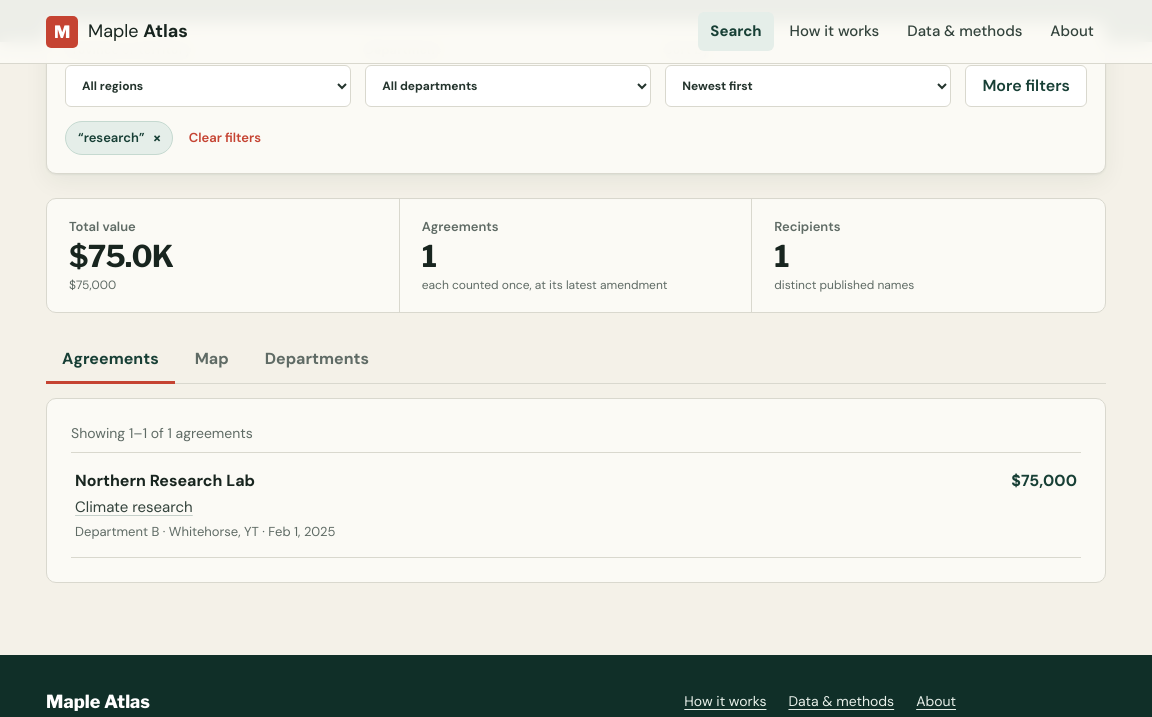
Scenario: App › filters records by search, province, and department
Earlier steps of the test are not shown.
Later steps or results of the test are not shown.
(page scrolled)
Expected: the text "Community Group" is not shown
Expected: the text "Northern Research Lab" is shown, [75,470,255,492]
Step 1. Click the tab "Map" → (212, 361), box [179,338,245,384]
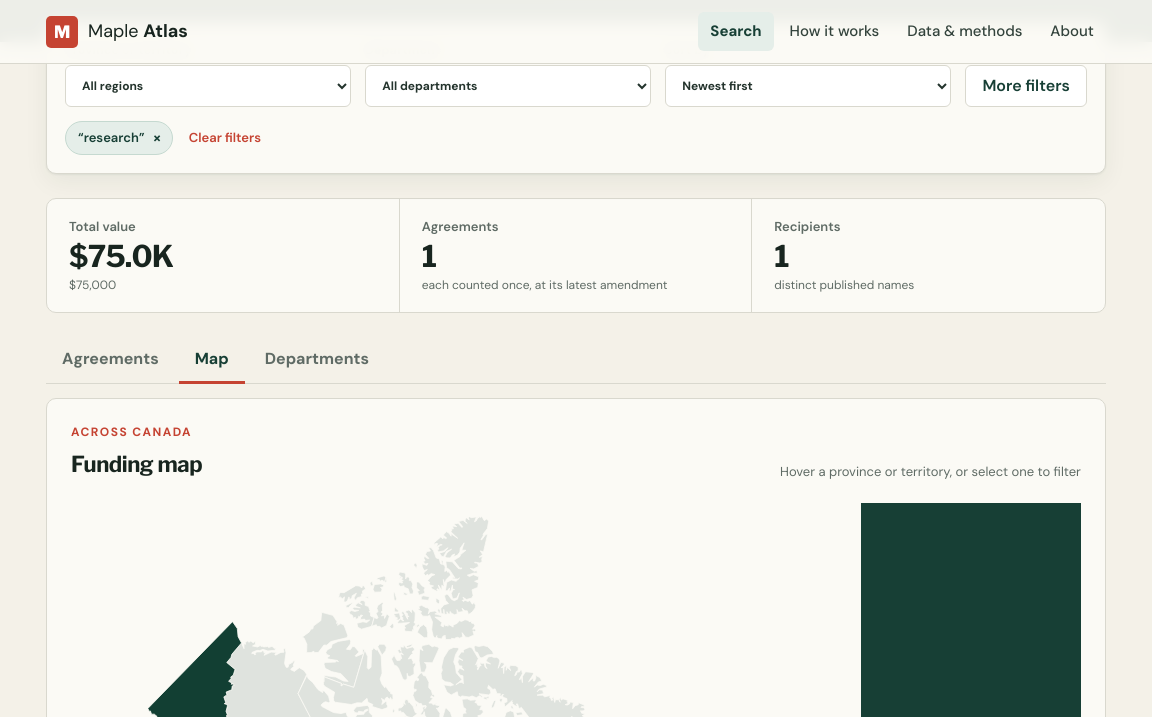
Step 2. Click the tab "Agreements" → (110, 361), box [46,338,175,384]
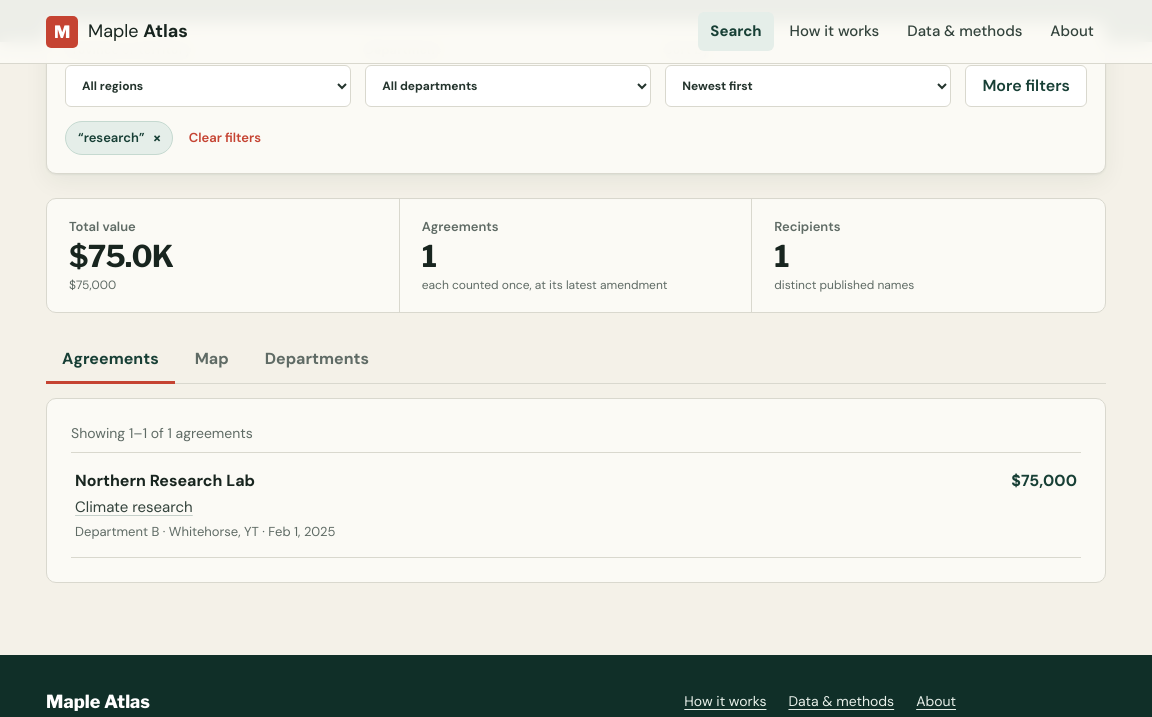
Step 3. Click the button "Clear filters" → (225, 138), box [181,122,269,154]
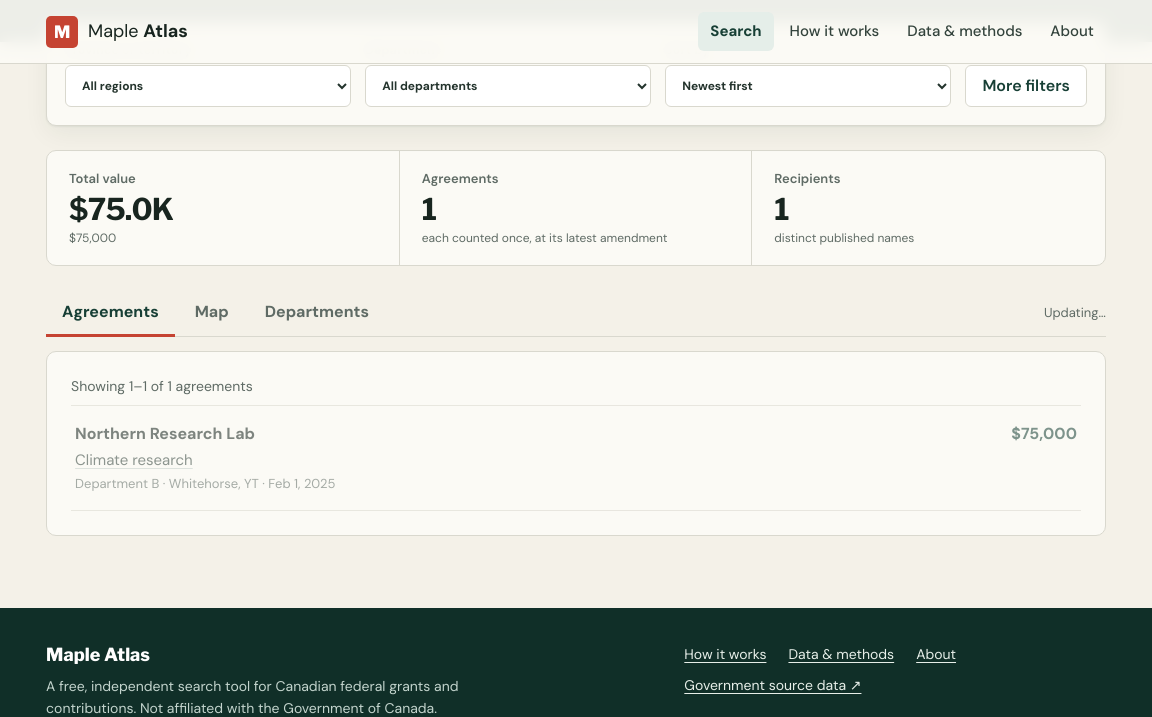
Step 4. Select "ON" in the dropdown labelled "Province or territory" → (208, 86), box [65,66,351,108]
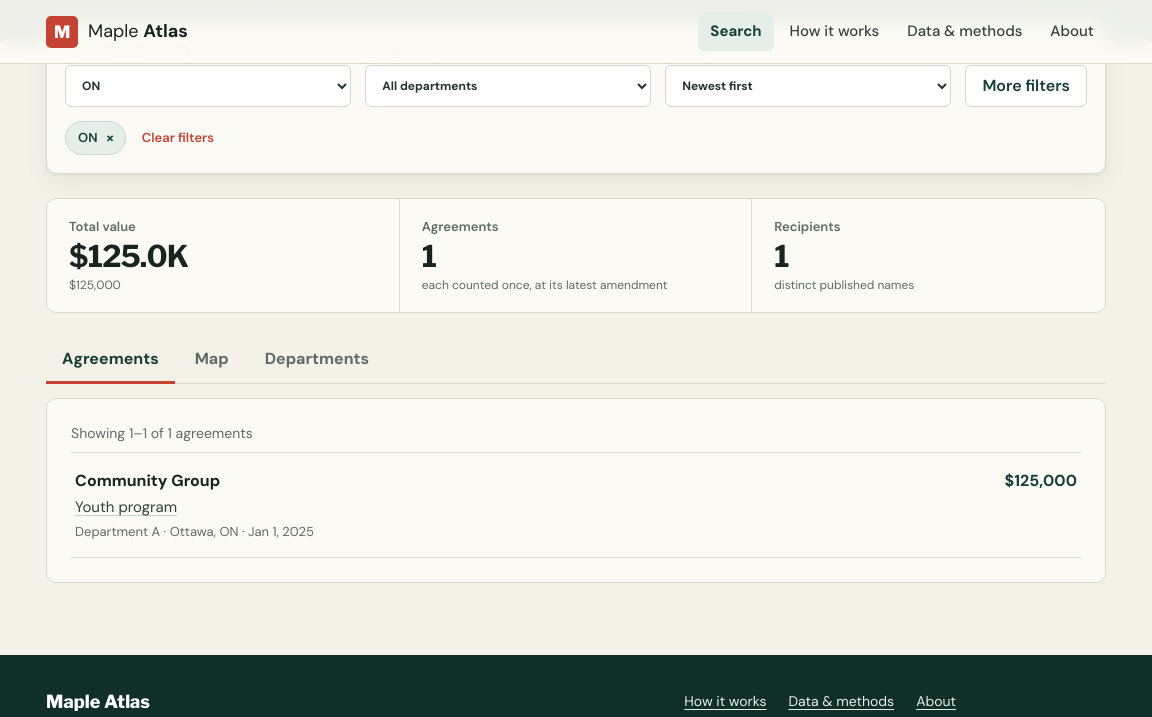
Result: the text "Northern Research Lab" is gone
Result: the text "Community Group" is shown at [75,470,220,492]
Step 5. Click the button "Clear filters" → (178, 138), box [134,122,222,154]
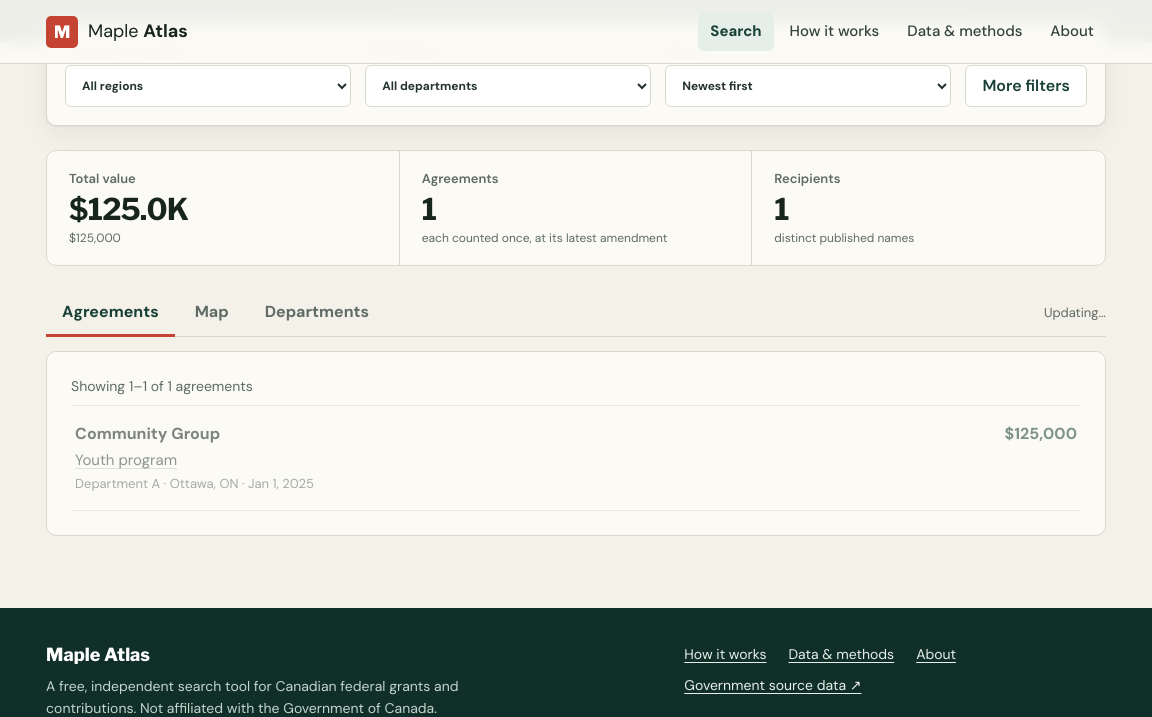
Step 6. Select "Department B" in the dropdown labelled "Department" → (508, 86), box [365,66,651,108]
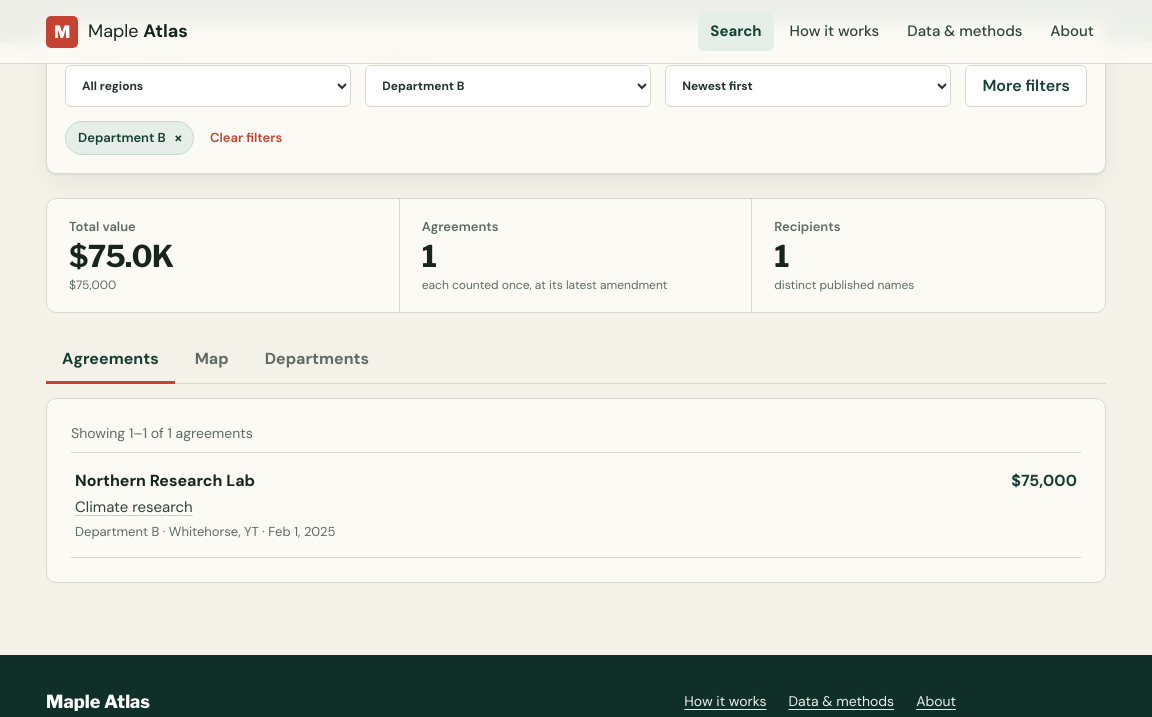
Result: the text "Community Group" is gone
Result: the text "Northern Research Lab" is shown at [75,470,255,492]
